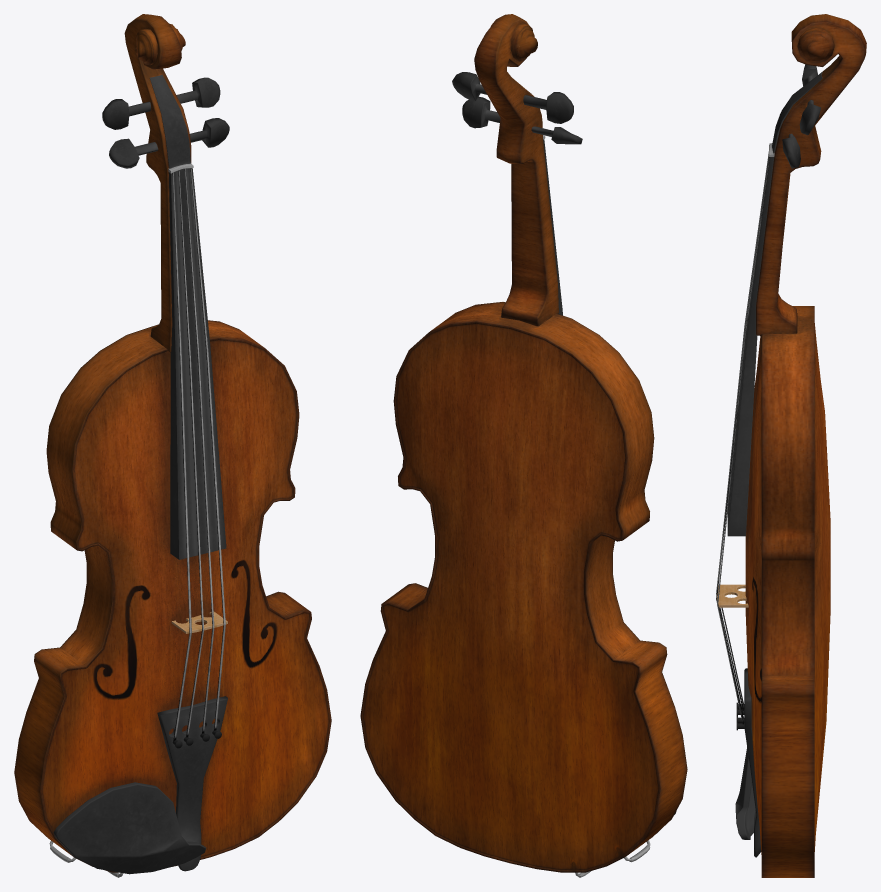
Rendered from Violin_bake_v0002.fbx.
3 views of the same model, side by side, from view 1: azimuth 30°, elevation 25°; view 2: azimuth 150°, elevation 25°; view 3: azimuth 270°, elevation 25° (orthographic). The views are drawn at different scales.
Parts seen in each view (by area): view 1: Violin_Body, Violin_part1, Violin_part3, Violin_part2; view 2: Violin_Body, Violin_part1; view 3: Violin_Body, Violin_part1, Violin_part3.
Part boxes in pixels (x1=…): Violin_Body: x1=14, y1=14, x2=331, y2=872; Violin_part1: x1=53, y1=74, x2=229, y2=874; Violin_part3: x1=172, y1=168, x2=225, y2=741; Violin_part2: x1=49, y1=163, x2=221, y2=877; Violin_Body: x1=360, y1=14, x2=687, y2=872; Violin_part1: x1=452, y1=72, x2=676, y2=832; Violin_Body: x1=717, y1=14, x2=866, y2=877; Violin_part1: x1=727, y1=64, x2=822, y2=857; Violin_part3: x1=716, y1=151, x2=769, y2=724.
Size of the model in its own units: 5.54 by 15.07 by 2.45.
Materials: 1 (1 with a texture image).
